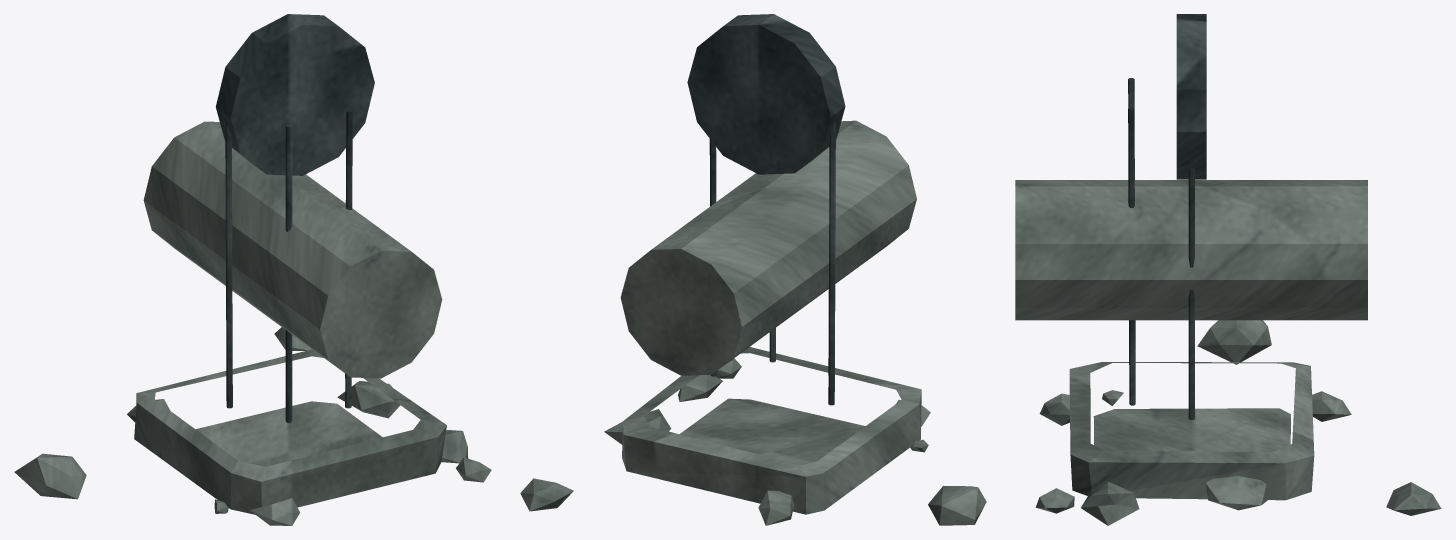
The model's file is 0264_broken_column_14.glb.
The picture shows the model from 3 angles, left to right: view 1: azimuth 30°, elevation 25°; view 2: azimuth 150°, elevation 25°; view 3: azimuth 270°, elevation 25°; orthographic projection.
Parts seen in each view (by area): view 1: stone, stone_dark; view 2: stone, stone_dark; view 3: stone, stone_dark.
Boxes of the visible parts, x1=… form: stone: x1=14, y1=121, x2=491, y2=525; stone_dark: x1=216, y1=14, x2=374, y2=422; stone: x1=520, y1=120, x2=986, y2=525; stone_dark: x1=687, y1=14, x2=845, y2=405; stone: x1=1015, y1=180, x2=1441, y2=525; stone_dark: x1=1128, y1=14, x2=1206, y2=419.
Size of the model in its own units: 2.2 by 2.43 by 2.13.
Materials: 2 (2 with a texture image).
